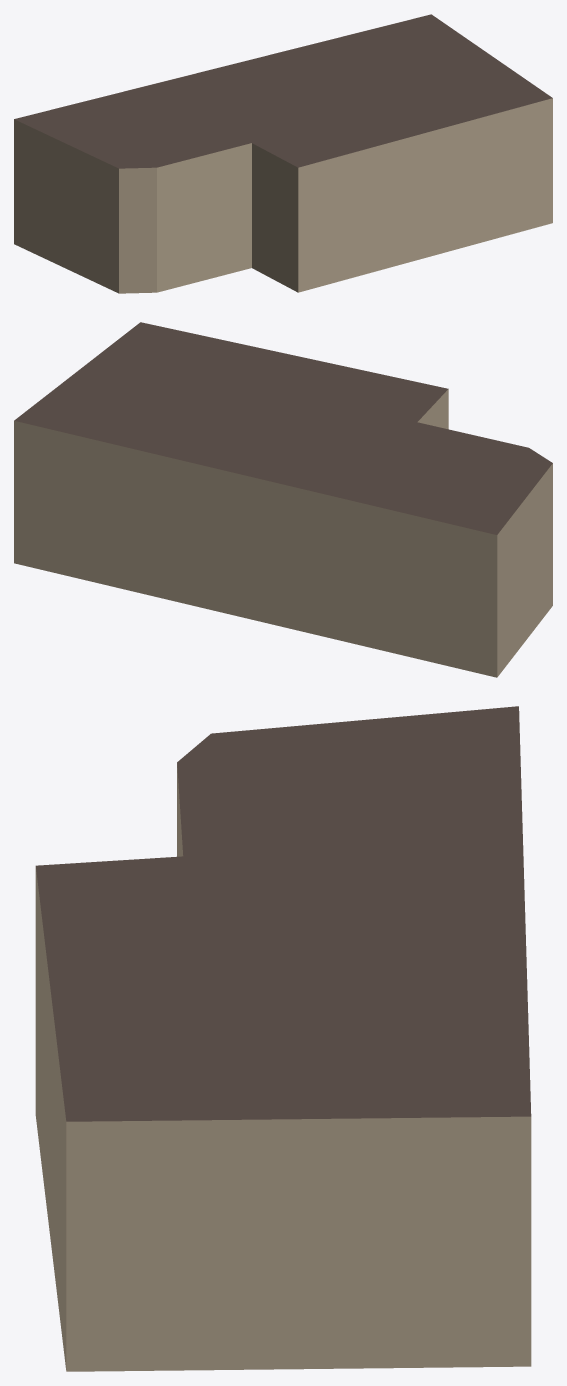
3 renders of one model, top to bottom at view 1: azimuth 30°, elevation 25°; view 2: azimuth 150°, elevation 25°; view 3: azimuth 270°, elevation 25°, orthographic. The views are drawn at different scales.
Visible parts, largest first — view 1: HP-w1512965880; view 2: HP-w1512965880; view 3: HP-w1512965880.
Part boxes in pixels (x1=…): HP-w1512965880: x1=14, y1=14, x2=552, y2=293; HP-w1512965880: x1=14, y1=322, x2=552, y2=677; HP-w1512965880: x1=35, y1=706, x2=531, y2=1371.
Bounding box in the file's own units: 32.08 × 9 × 16.17.
